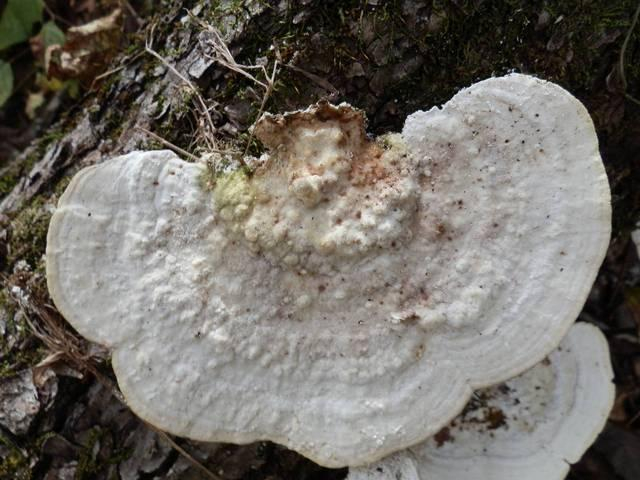Non-edible Mushroom: (43, 71, 616, 478)
